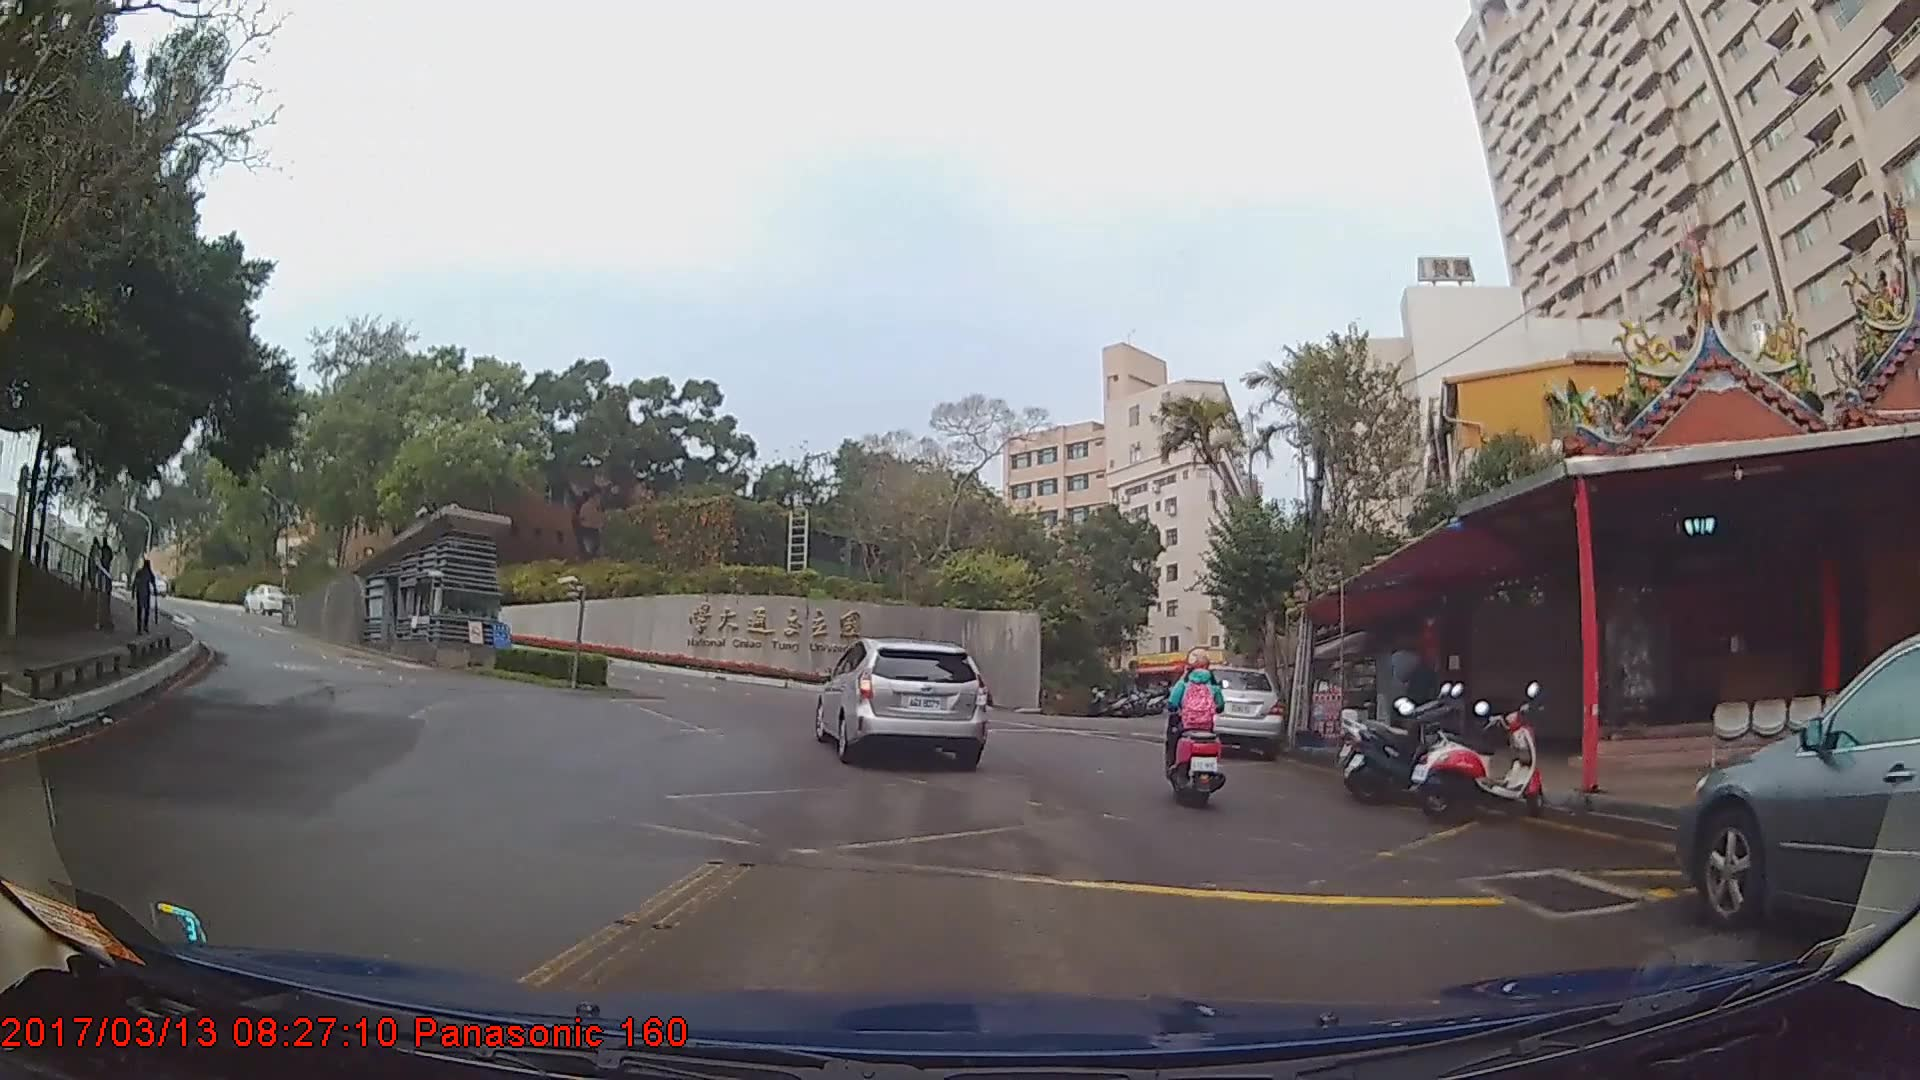pedestrian: (1401, 643, 1443, 750), (131, 561, 159, 638), (86, 538, 107, 598), (98, 539, 118, 595)
rider: (1158, 650, 1233, 813)
vehicle: (1685, 641, 1920, 940), (813, 637, 985, 770), (1167, 664, 1284, 758), (245, 587, 286, 617)
